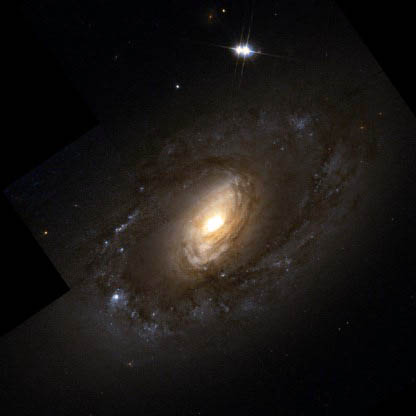NGC 4102: (69, 35, 359, 358)
